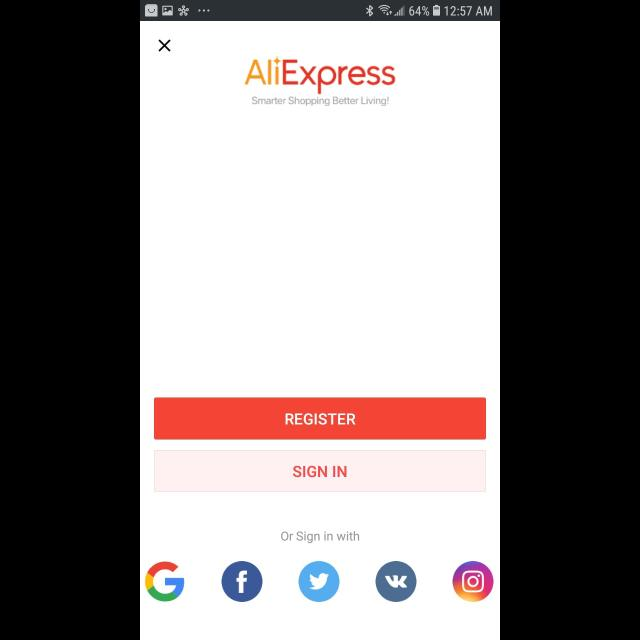icon: (298, 562, 339, 602), (145, 562, 185, 602), (222, 562, 262, 602), (158, 40, 172, 52)
image: (244, 56, 396, 95), (452, 561, 493, 603), (376, 562, 416, 602)
text: (252, 97, 390, 107), (281, 530, 359, 544)
textbutton: (154, 450, 486, 492), (154, 398, 486, 440)
uppertaskbar: (140, 1, 500, 22)
